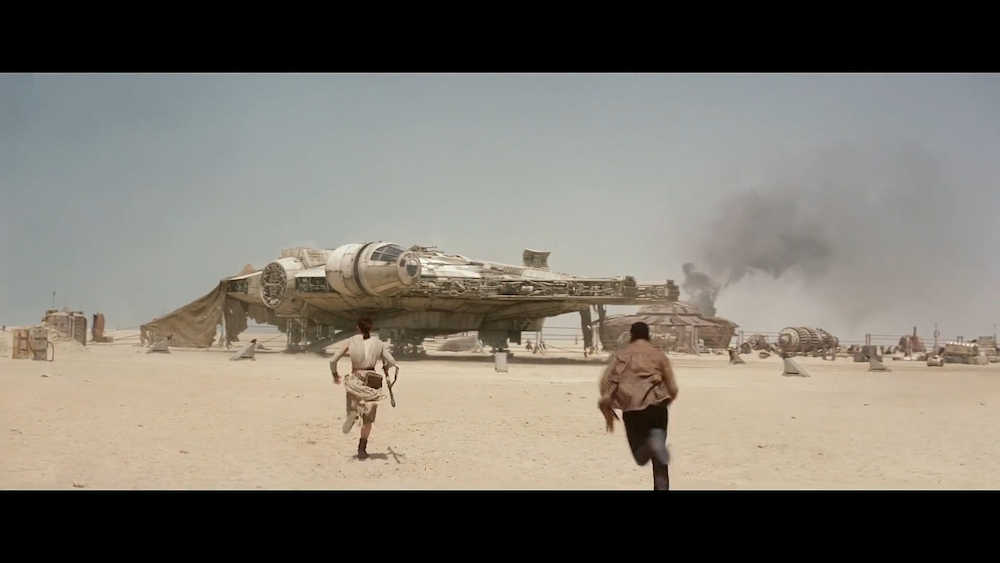Millennium Falcon: (222, 241, 680, 336)
